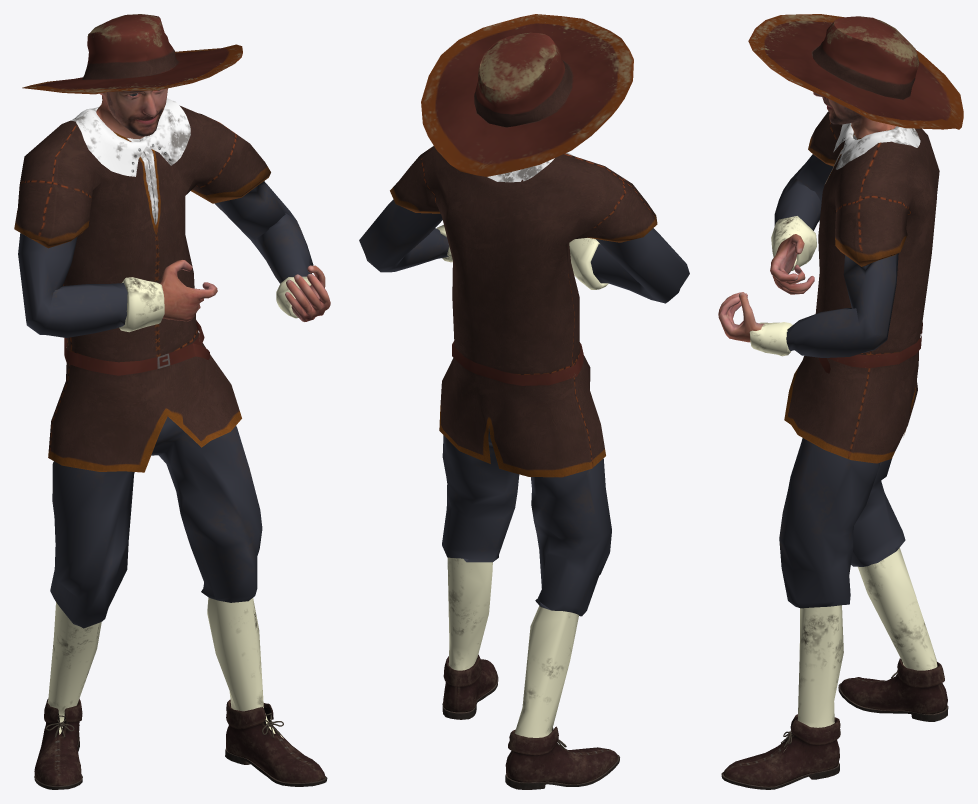
File: IdleNoAim2Sample.fbx
The picture shows the model from 3 angles, left to right: view 1: azimuth 30°, elevation 25°; view 2: azimuth 150°, elevation 25°; view 3: azimuth 270°, elevation 25°; orthographic projection. The views are drawn at different scales.
Visible parts, largest first — view 1: IdleNoAim2SoldierLOD0; view 2: IdleNoAim2SoldierLOD0; view 3: IdleNoAim2SoldierLOD0.
Part boxes in pixels (x1,y1,x2,y2): IdleNoAim2SoldierLOD0: (14,14,330,789); IdleNoAim2SoldierLOD0: (359,14,689,789); IdleNoAim2SoldierLOD0: (718,14,963,789).
Size of what is drawn, in the model's own units: 78.28 by 185 by 57.66.
